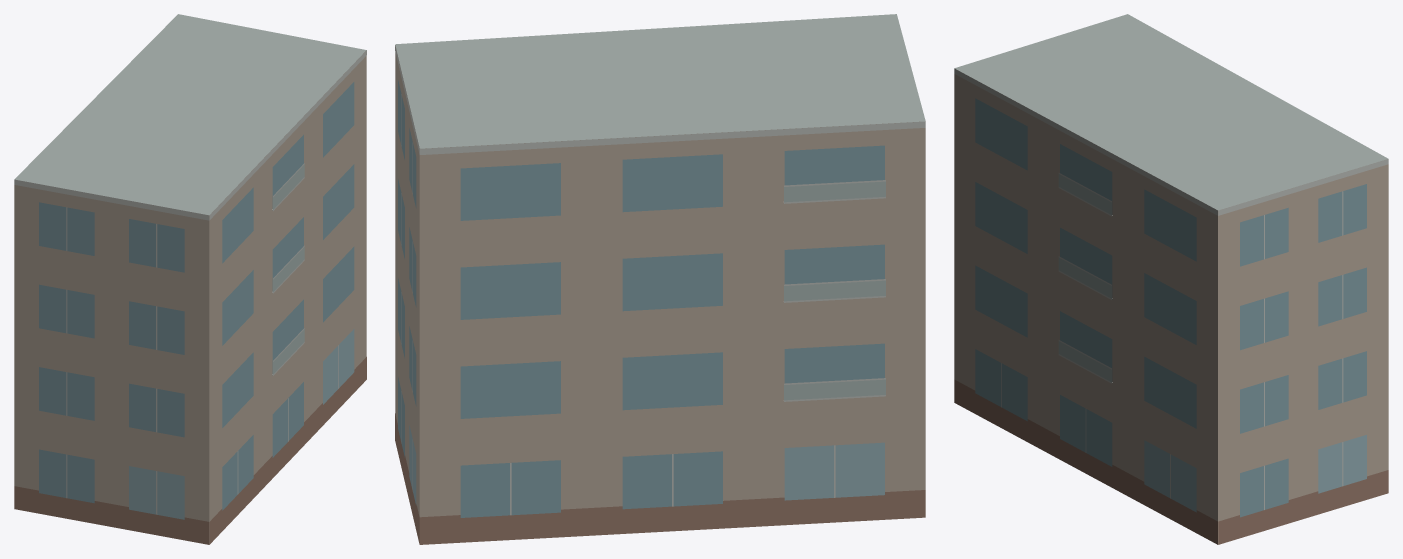
Rendered from survey-upis-32780657.glb.
3 views of the same model, side by side, from view 1: azimuth 30°, elevation 25°; view 2: azimuth 150°, elevation 25°; view 3: azimuth 270°, elevation 25° (orthographic). The views are drawn at different scales.
Parts seen in each view (by area): view 1: survey-upis-32780657.tmp; view 2: survey-upis-32780657.tmp; view 3: survey-upis-32780657.tmp.
Boxes of the visible parts, x1=… form: survey-upis-32780657.tmp: x1=14, y1=14, x2=366, y2=544; survey-upis-32780657.tmp: x1=395, y1=14, x2=925, y2=544; survey-upis-32780657.tmp: x1=954, y1=14, x2=1388, y2=544.
Bounding box in the file's own units: 19.04 × 15.1 × 17.79.
